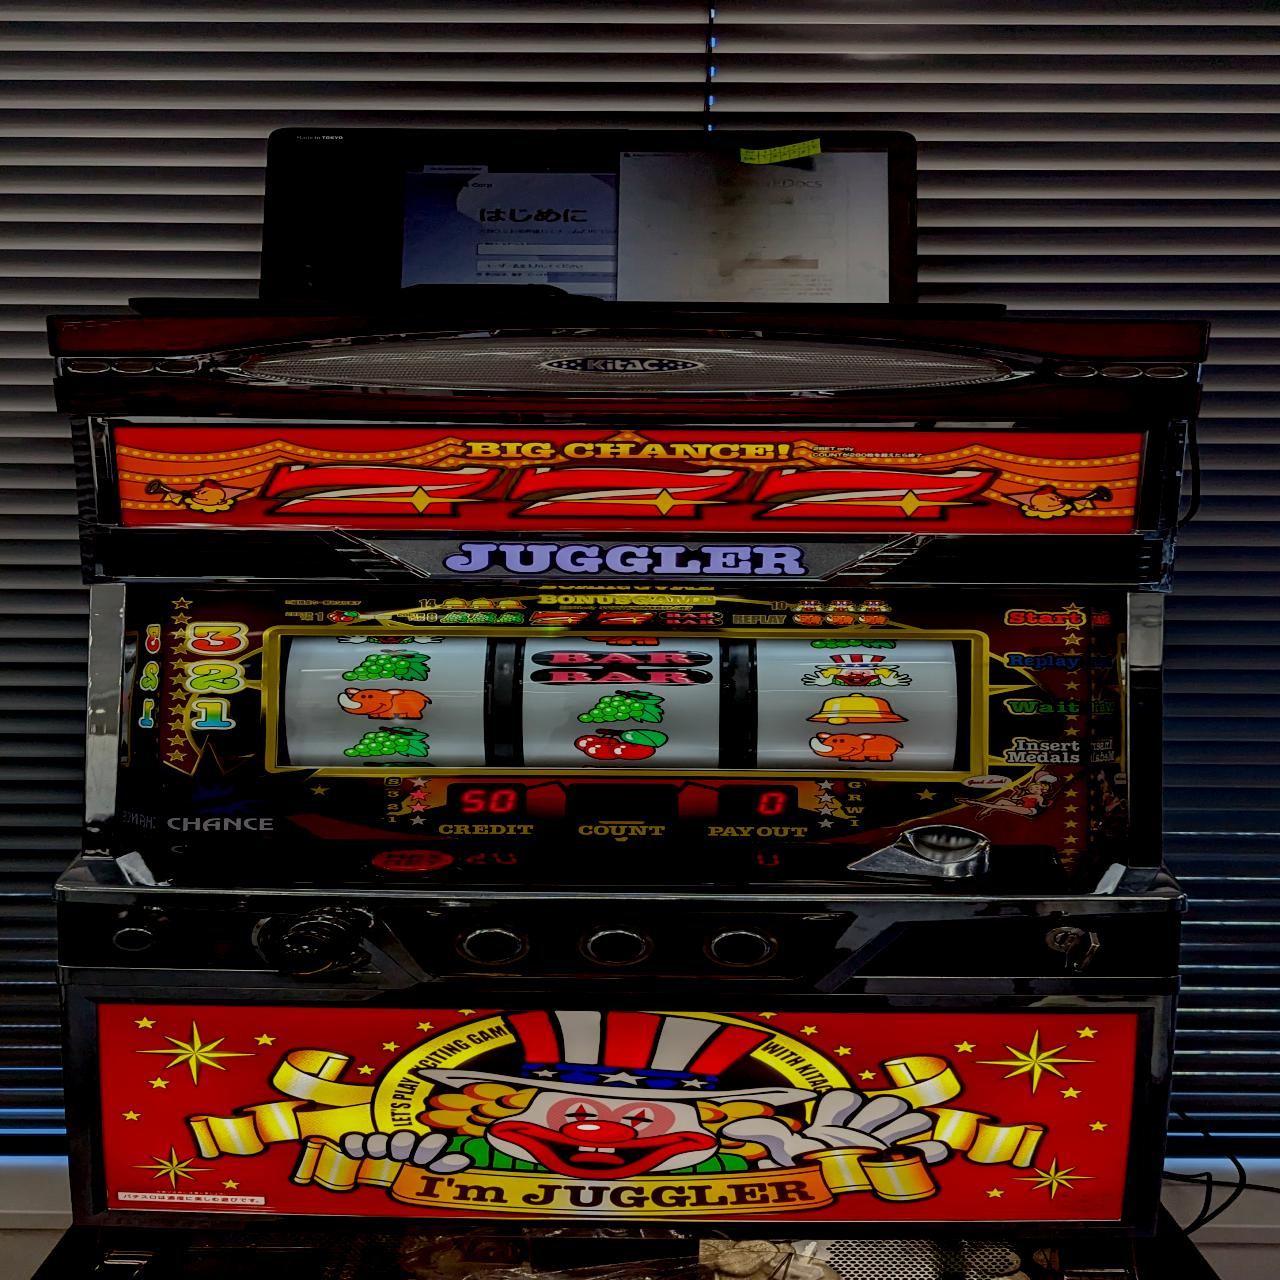8: (328, 686, 441, 723), (801, 729, 910, 765)
Display: (271, 628, 978, 774)
bar: (529, 648, 723, 687)
bell: (794, 690, 915, 727)
cherry: (567, 726, 670, 762)
clown: (795, 652, 914, 690)
grape: (566, 689, 670, 726), (340, 724, 436, 761), (336, 648, 433, 683)
